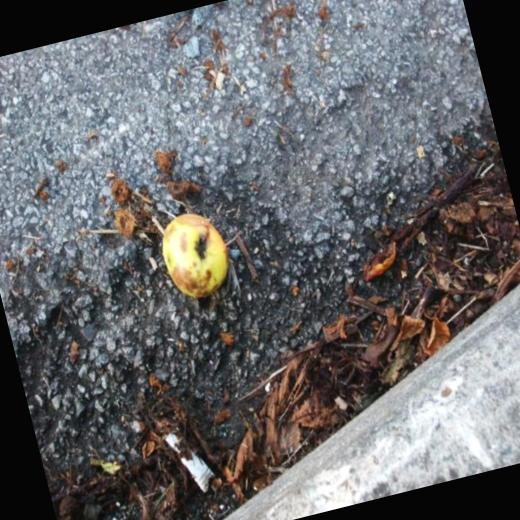Apple: (148, 203, 242, 314)
